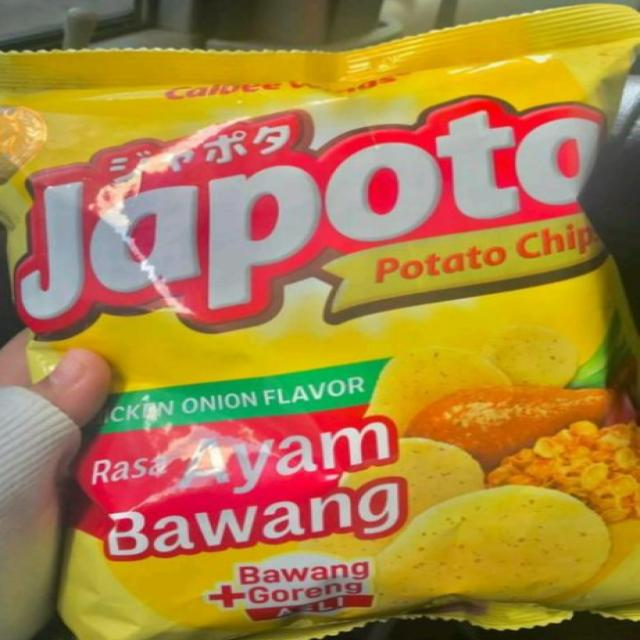KemasanPlastik: (0, 2, 639, 639)
